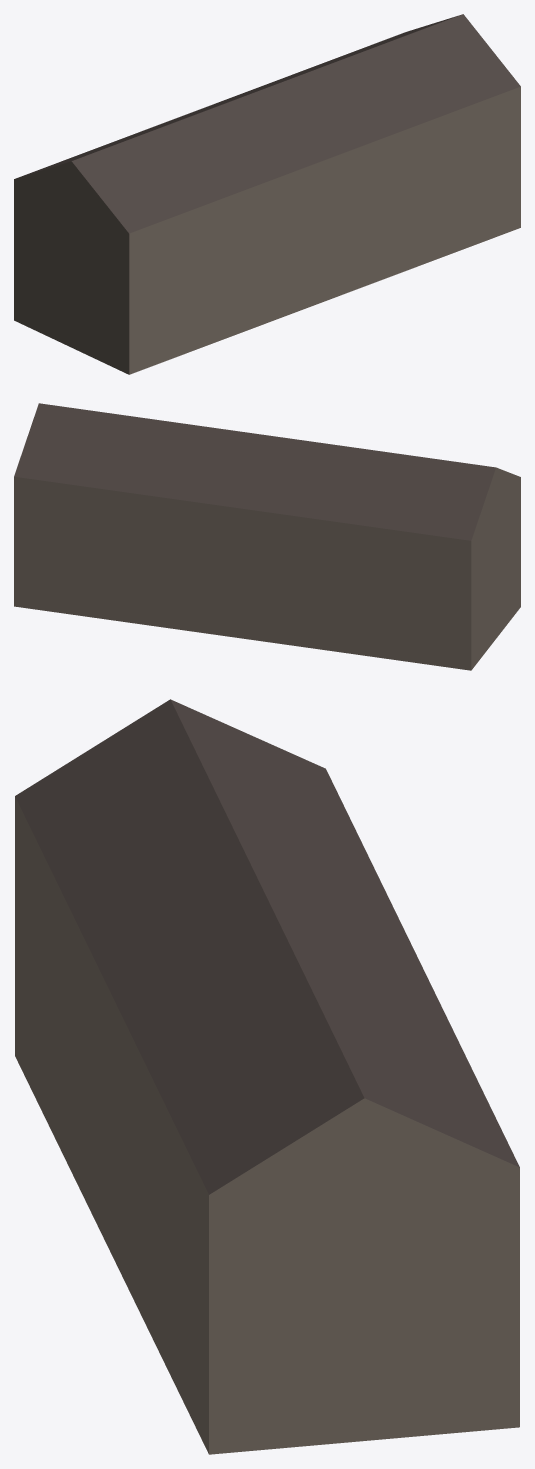
3 renders of one model, top to bottom at view 1: azimuth 30°, elevation 25°; view 2: azimuth 150°, elevation 25°; view 3: azimuth 270°, elevation 25°, orthographic. The views are drawn at different scales.
Visible parts, largest first — view 1: HP-w859424192; view 2: HP-w859424192; view 3: HP-w859424192.
Part boxes in pixels (box(x1,y1,x2,y2)): HP-w859424192: box(14, 14, 520, 374); HP-w859424192: box(14, 403, 520, 670); HP-w859424192: box(15, 699, 519, 1454).
Bounding box in the file's own units: 31.68 × 11.88 × 15.87.
